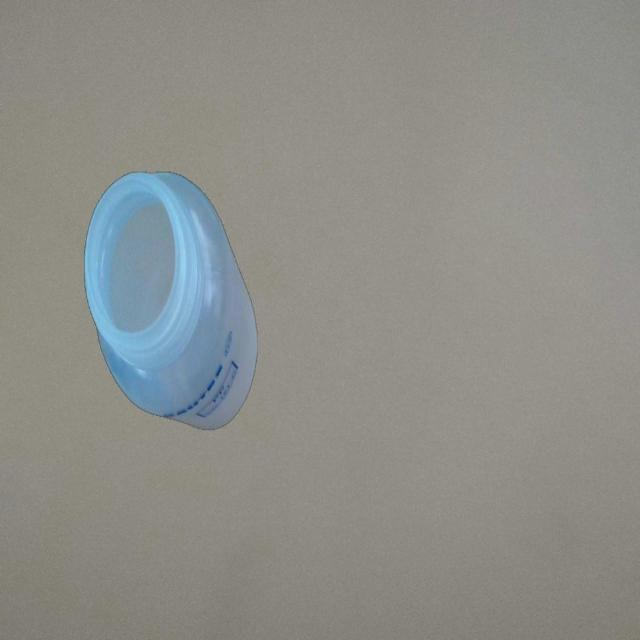bottle: (82, 168, 258, 431)
